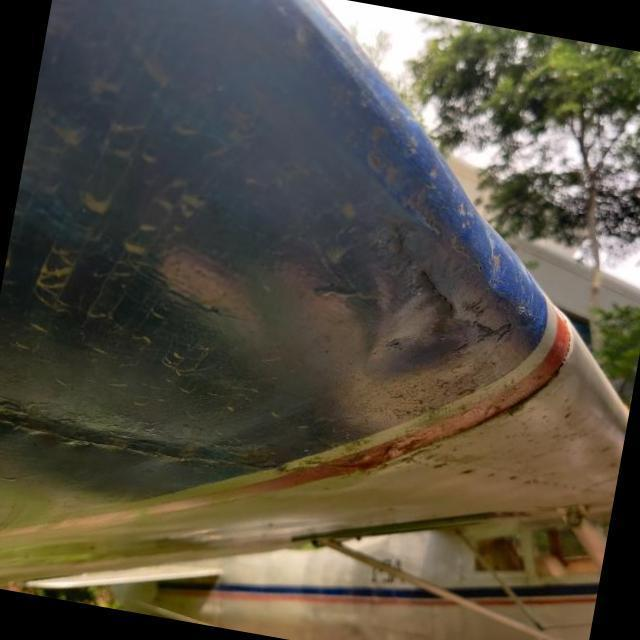Dent: (264, 180, 508, 422)
